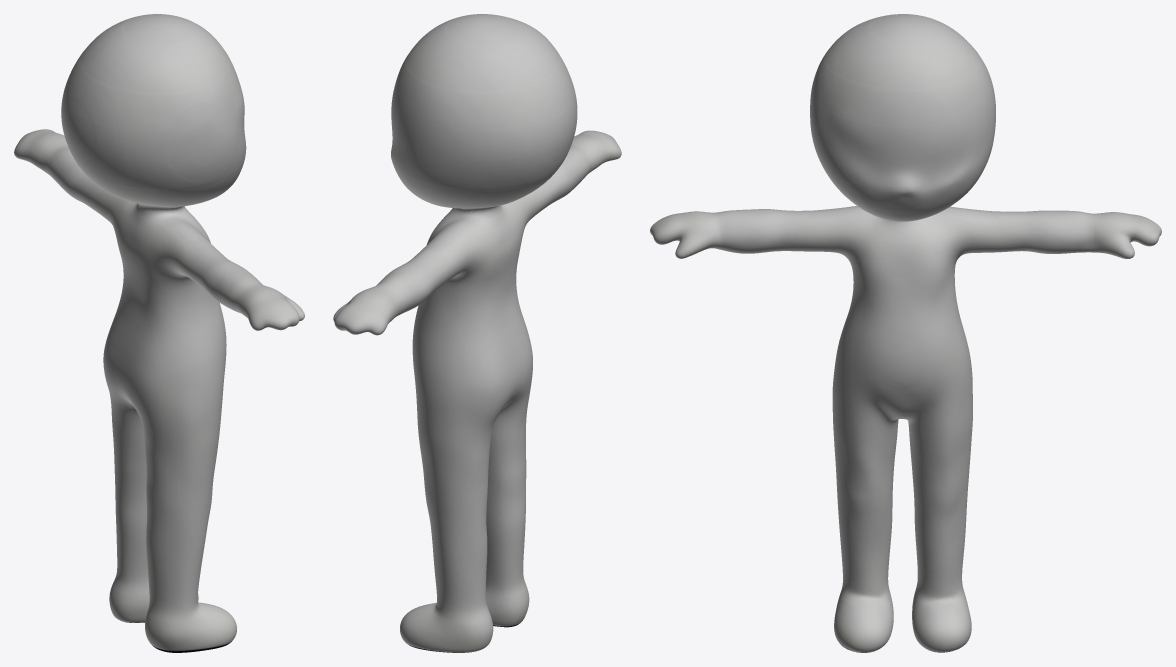
The model's file is character_base.glb.
3 renders of one model, left to right at view 1: azimuth 30°, elevation 25°; view 2: azimuth 150°, elevation 25°; view 3: azimuth 270°, elevation 25°, orthographic.
Visible parts, largest first — view 1: tripo_node_42cd6c7f-6d32-465d-bf33-a42925f0222c; view 2: tripo_node_42cd6c7f-6d32-465d-bf33-a42925f0222c; view 3: tripo_node_42cd6c7f-6d32-465d-bf33-a42925f0222c.
Boxes of the visible parts, x1,y1,x2,y2 form: tripo_node_42cd6c7f-6d32-465d-bf33-a42925f0222c: (14, 14, 304, 652); tripo_node_42cd6c7f-6d32-465d-bf33-a42925f0222c: (333, 14, 621, 652); tripo_node_42cd6c7f-6d32-465d-bf33-a42925f0222c: (650, 14, 1161, 652).
Size of the model in its own units: 0.282 by 1 by 0.7644.
1 material, 1 textured.
